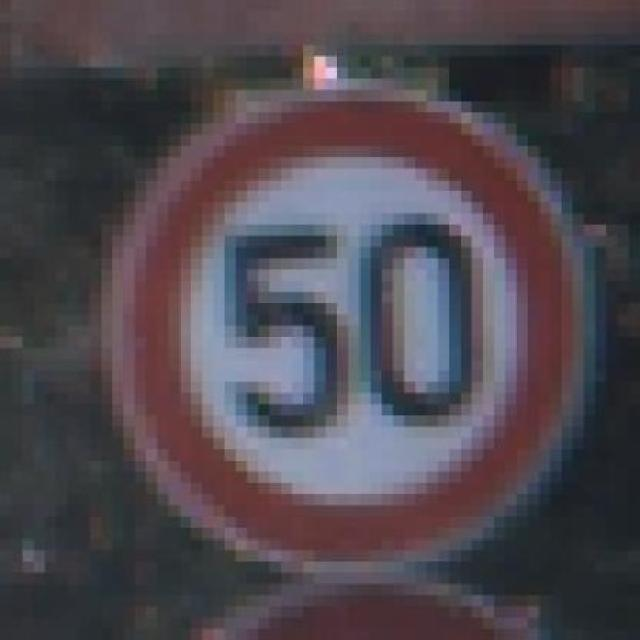forb_speed_over_50: (123, 92, 569, 563)
